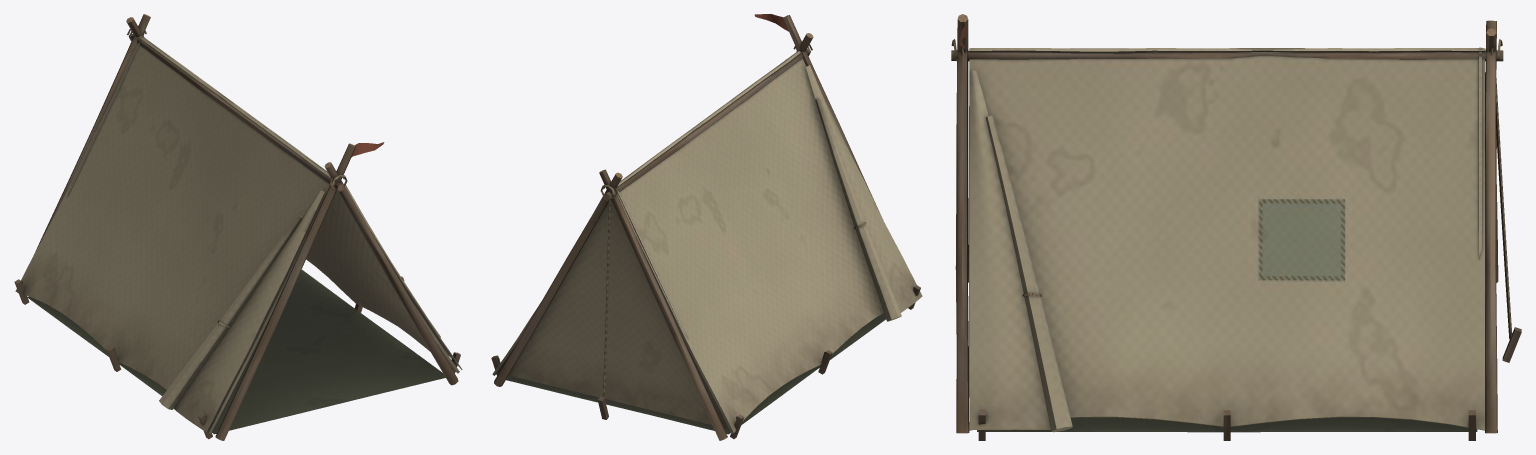
File: fm_tent_aframe.glb
3 views of the same model, side by side, from view 1: azimuth 30°, elevation 25°; view 2: azimuth 150°, elevation 25°; view 3: azimuth 270°, elevation 25° (orthographic). The views are drawn at different scales.
Visible parts, largest first — view 1: fm_tent_aframe; view 2: fm_tent_aframe; view 3: fm_tent_aframe.
Part boxes in pixels (x1=…): fm_tent_aframe: x1=14, y1=14, x2=462, y2=440; fm_tent_aframe: x1=491, y1=14, x2=922, y2=440; fm_tent_aframe: x1=951, y1=14, x2=1521, y2=440.
Size of the model in its own units: 1.67 by 1.52 by 2.21.
1 material, 1 textured.
